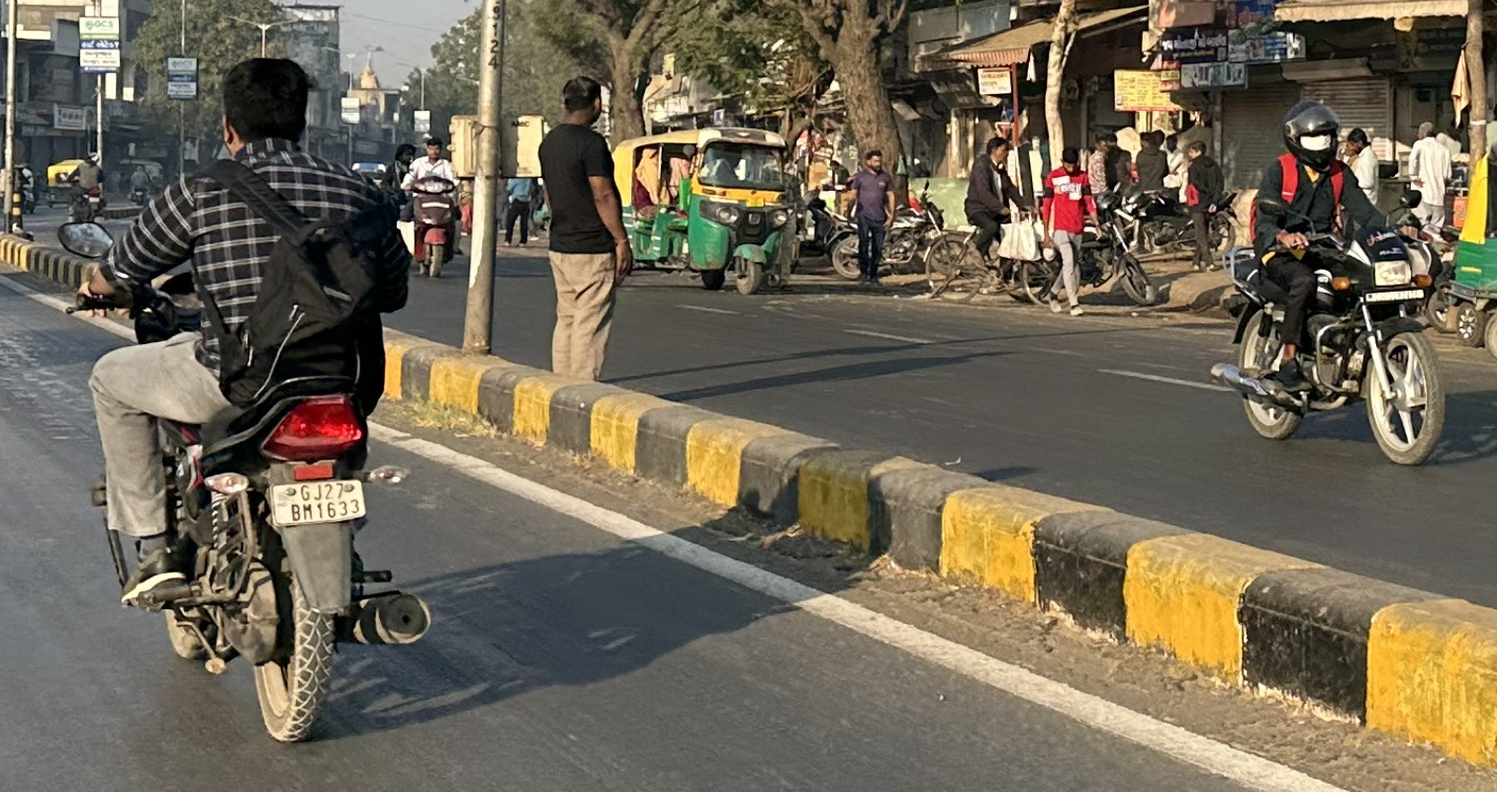BikeWithRider: (55, 49, 436, 759), (1202, 97, 1461, 475), (393, 128, 468, 283), (55, 142, 113, 232)
Helmet: (1269, 99, 1355, 174)
NoHelmet: (207, 52, 324, 160), (420, 134, 446, 164)
